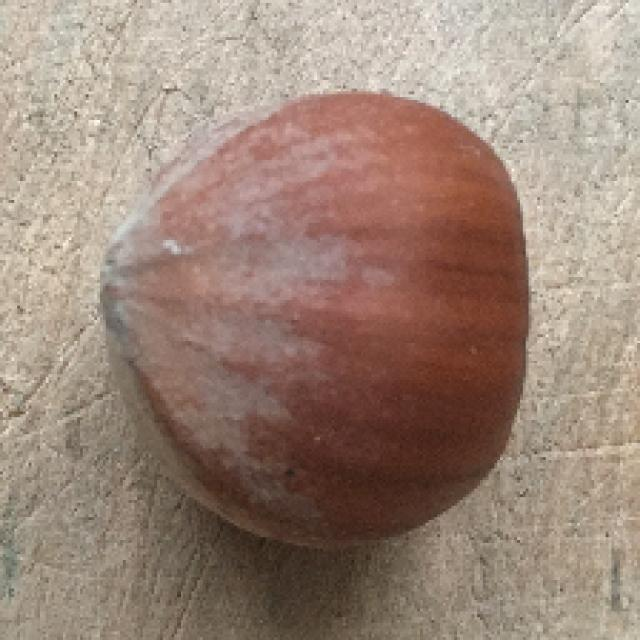QualityHazelnut: (102, 90, 538, 552)
